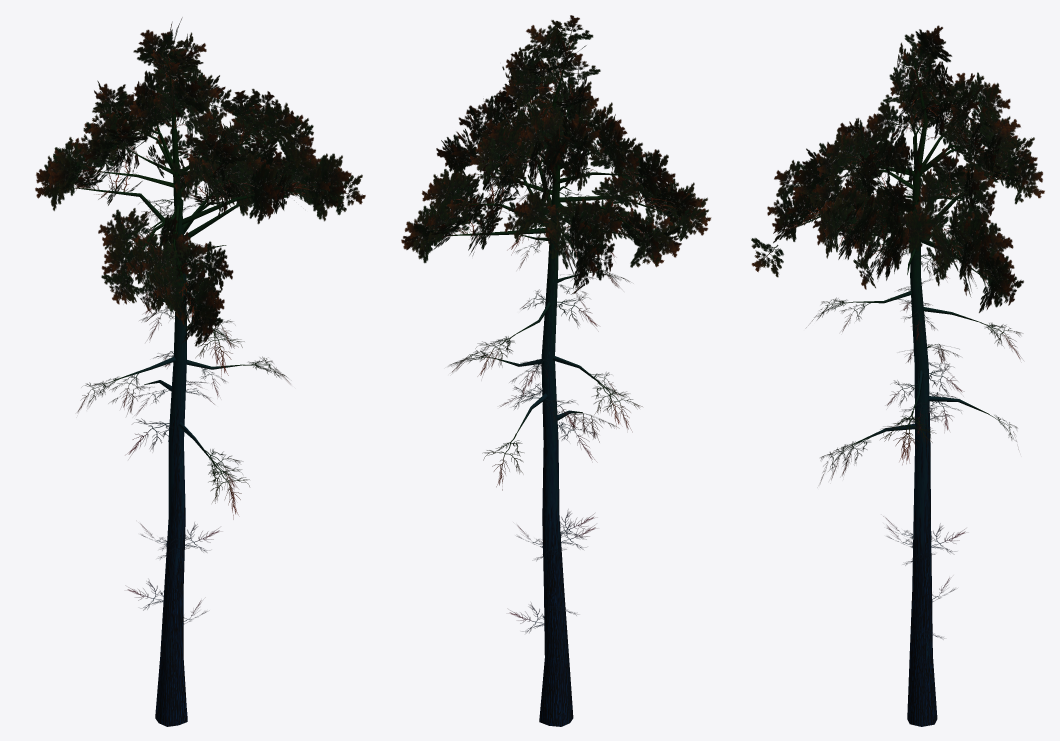
File: Scoth_Pine_C.glb
The picture shows the model from 3 angles, left to right: view 1: azimuth 30°, elevation 25°; view 2: azimuth 150°, elevation 25°; view 3: azimuth 270°, elevation 25°; orthographic projection.
Parts seen in each view (by area): view 1: C_LOD0; view 2: C_LOD0; view 3: C_LOD0.
Part boxes in pixels (left/top/right/bottom): C_LOD0: left=35, top=17, right=365, bottom=726; C_LOD0: left=401, top=15, right=711, bottom=726; C_LOD0: left=751, top=25, right=1044, bottom=726.
Size of what is drawn, in the model's own units: 13.83 by 34.59 by 13.65.
3 materials, 3 textured.
